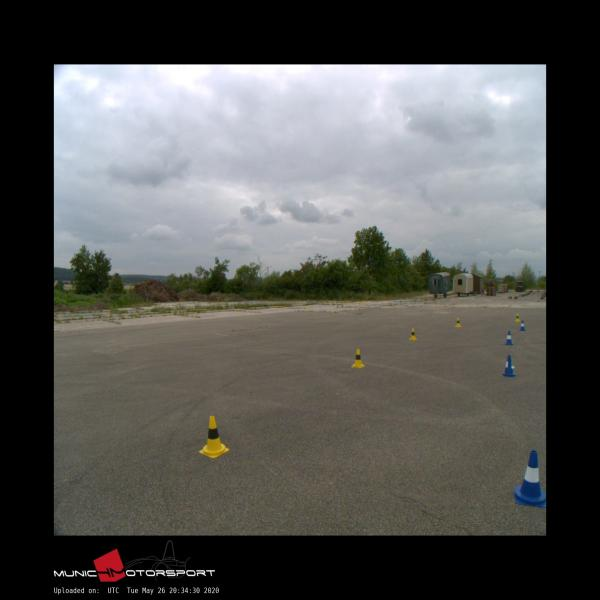blue_cone: (513, 450, 546, 507), (502, 355, 516, 376), (505, 330, 513, 344), (518, 320, 526, 330)
yellow_cone: (200, 415, 228, 457), (350, 348, 364, 368), (409, 327, 416, 340), (455, 318, 461, 327), (515, 313, 520, 322)
